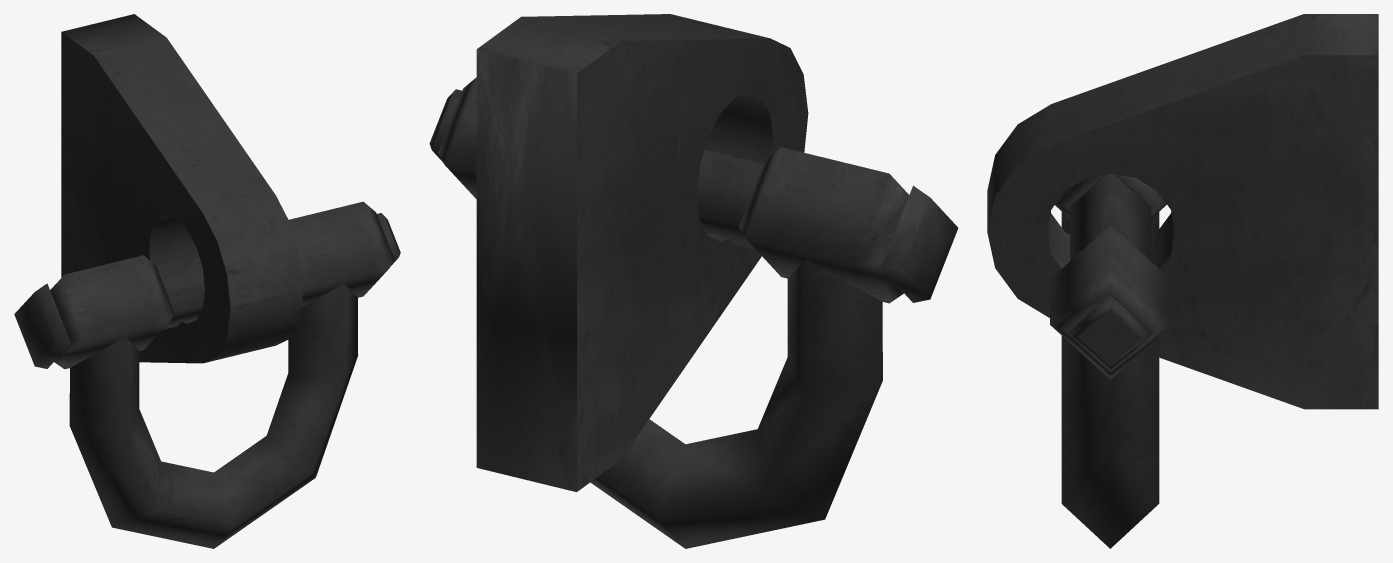
Rendered from p6_blackout_deck_iloop_02_lod2.glb.
The picture shows the model from 3 angles, left to right: view 1: azimuth 30°, elevation 25°; view 2: azimuth 150°, elevation 25°; view 3: azimuth 270°, elevation 25°; orthographic projection. The views are drawn at different scales.
Visible parts, largest first — view 1: surf0; view 2: surf0; view 3: surf0.
Boxes of the visible parts, box(x1,y1,x2,y2) form: surf0: box(14, 14, 400, 548); surf0: box(429, 14, 958, 548); surf0: box(987, 14, 1378, 548).
Size of the model in its own units: 19.61 by 23.07 by 16.04.
